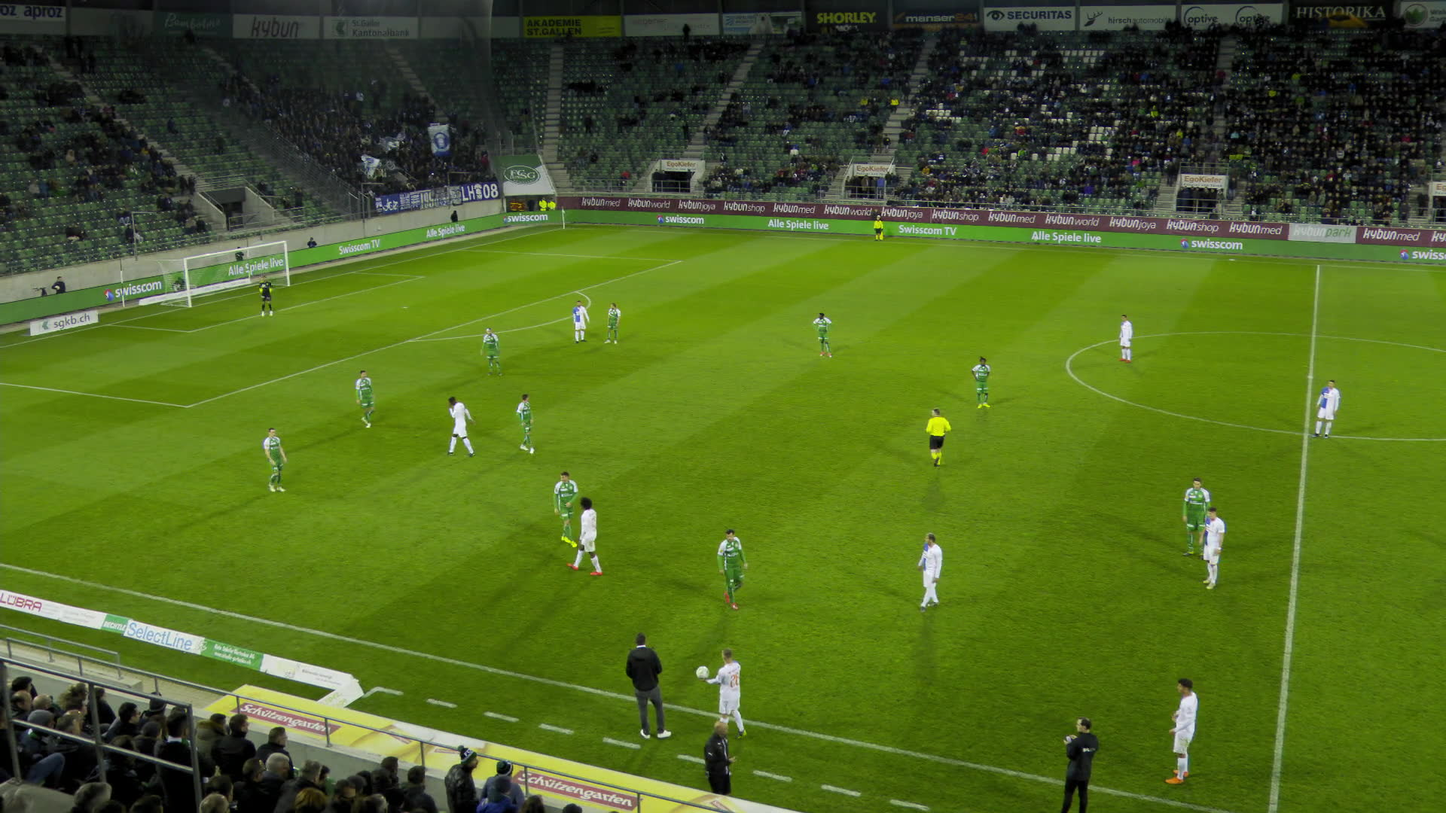ball: (695, 665, 709, 679)
player: (1161, 676, 1197, 783), (705, 647, 746, 738), (717, 529, 749, 608), (575, 495, 606, 575), (1181, 477, 1210, 557), (1199, 507, 1225, 590), (917, 533, 942, 611), (552, 470, 577, 546), (447, 396, 475, 455), (1313, 379, 1341, 437), (262, 427, 286, 492), (354, 369, 374, 428), (517, 394, 535, 453), (970, 355, 990, 407), (483, 327, 504, 376), (811, 312, 832, 357), (572, 300, 589, 343), (603, 301, 620, 343), (1117, 315, 1131, 361), (259, 276, 272, 316)
referee: (925, 408, 950, 467), (873, 216, 883, 240)
